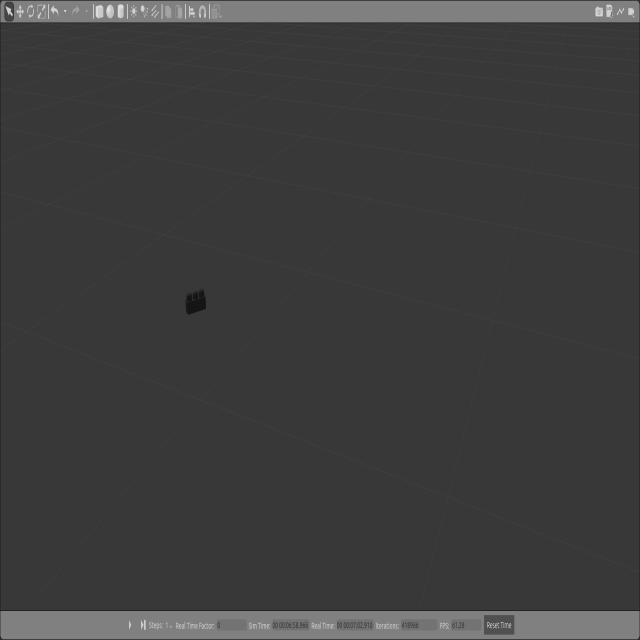block6: (185, 288, 206, 315)
